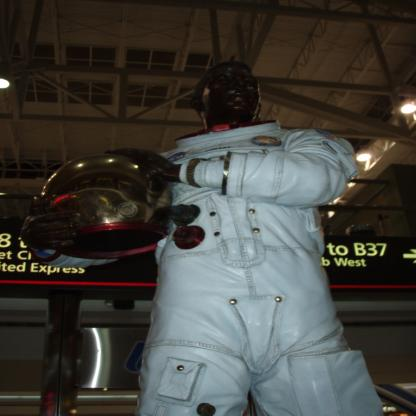Helmet: (27, 160, 162, 268)
